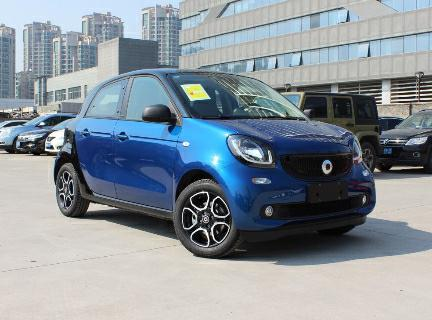smart-forfour: (48, 70, 372, 248)
